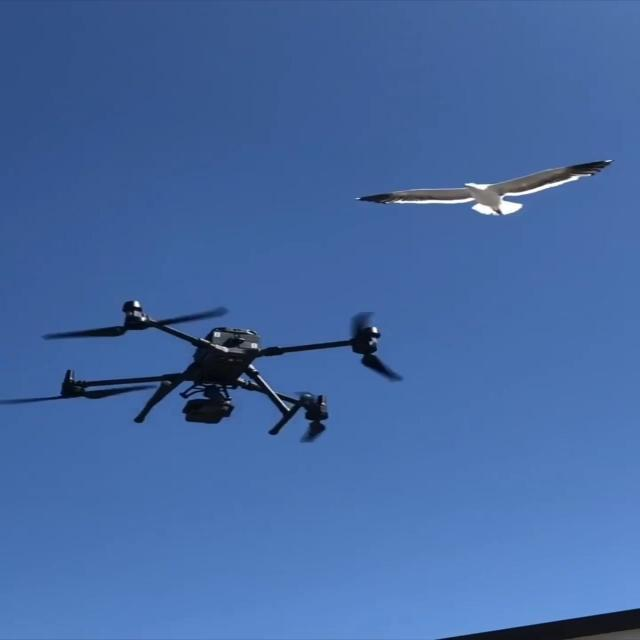bird: (352, 158, 614, 216)
drone: (1, 299, 403, 443)
